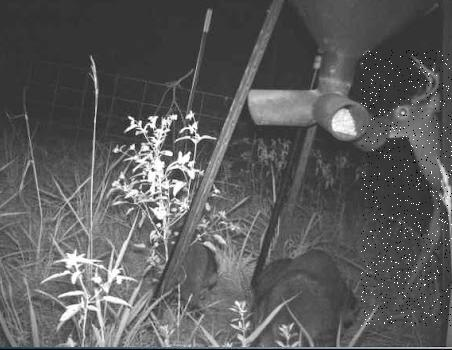Deer: (361, 50, 452, 326)
